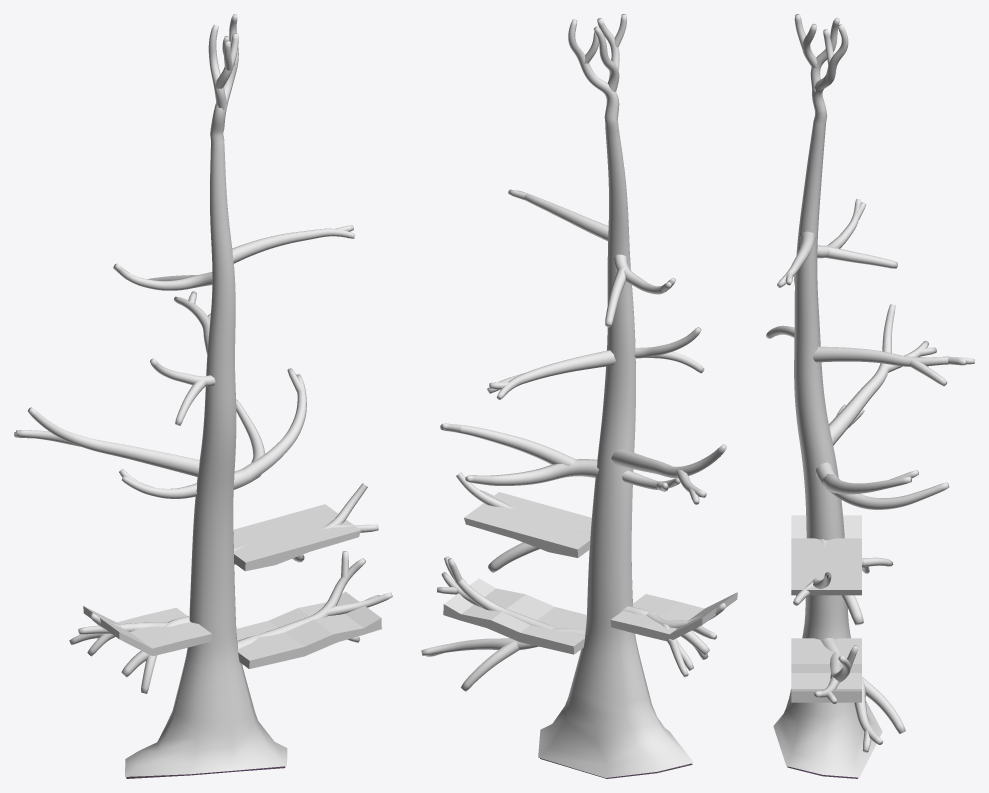
The model's file is ArbrePlatform 1.fbx.
3 views of the same model, side by side, from view 1: azimuth 30°, elevation 25°; view 2: azimuth 150°, elevation 25°; view 3: azimuth 270°, elevation 25° (orthographic).
Parts seen in each view (by area): view 1: tree, MeshBranch1, MeshBranch3, MeshBranch2, Branch1, Branch2, Branch3; view 2: tree, MeshBranch1, MeshBranch3, Branch1, MeshBranch2, Branch2, Branch3; view 3: tree, MeshBranch3, MeshBranch1, Branch1, MeshBranch2, Branch3.
Boxes of the visible parts, x1,y1,x2,y2 form: tree: (14,14,355,778); MeshBranch1: (236,591,381,668); MeshBranch3: (233,504,360,571); MeshBranch2: (83,606,211,656); Branch1: (237,551,392,648); Branch2: (69,613,190,693); Branch3: (234,483,378,564); tree: (440,14,726,778); MeshBranch1: (443,578,586,654); MeshBranch3: (464,492,591,557); Branch1: (421,556,585,691); MeshBranch2: (610,592,737,641); Branch2: (622,603,726,677); Branch3: (456,472,590,572); tree: (766,14,974,778); MeshBranch3: (791,538,861,595); MeshBranch1: (791,638,861,702); Branch1: (814,637,905,752); MeshBranch2: (791,515,861,538); Branch3: (793,539,863,625).
Size of the model in its own units: 1053 by 2313 by 591.
2 materials, 1 textured.
